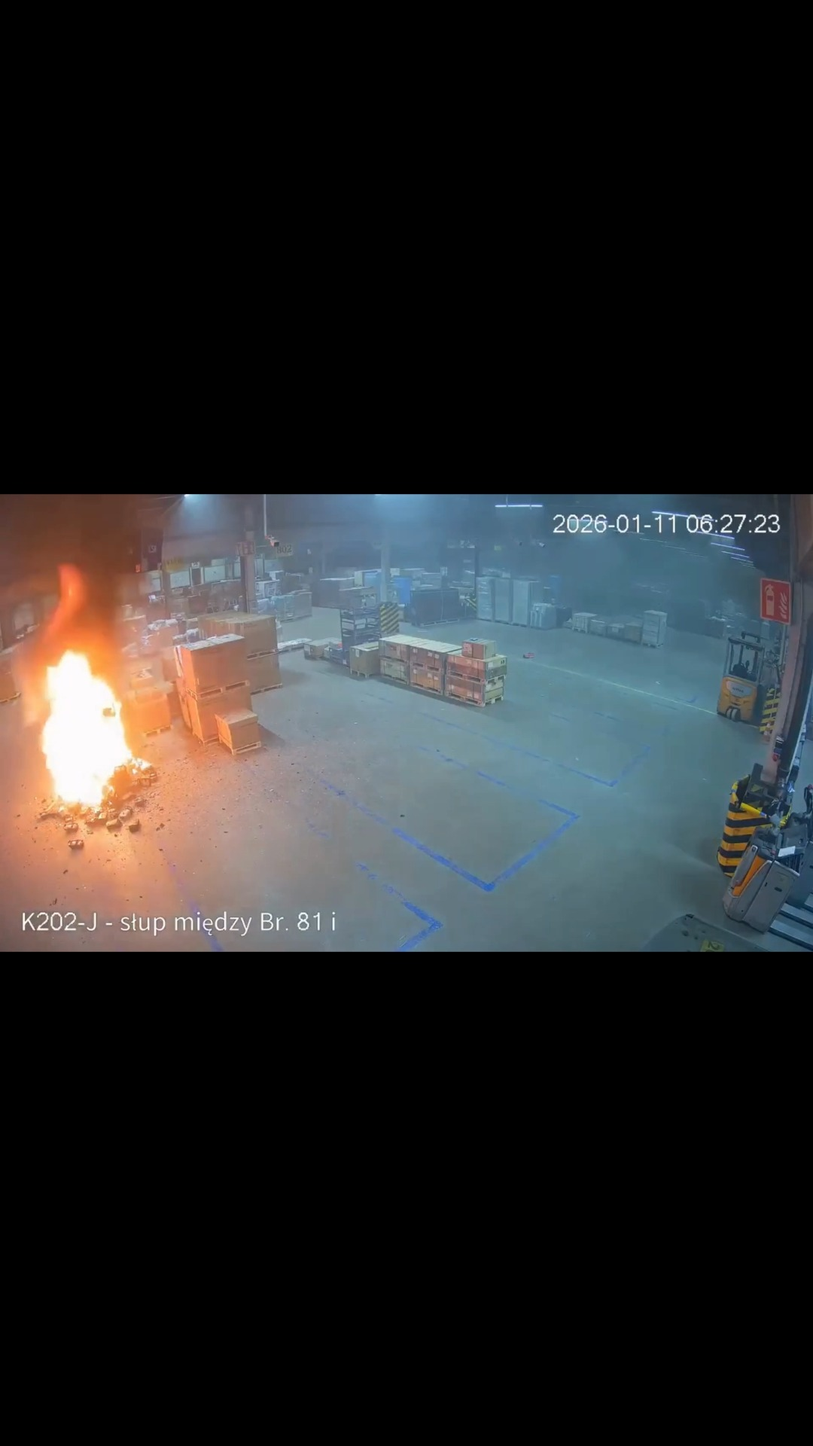fire: (35, 563, 151, 816)
smoke: (0, 495, 181, 670)
